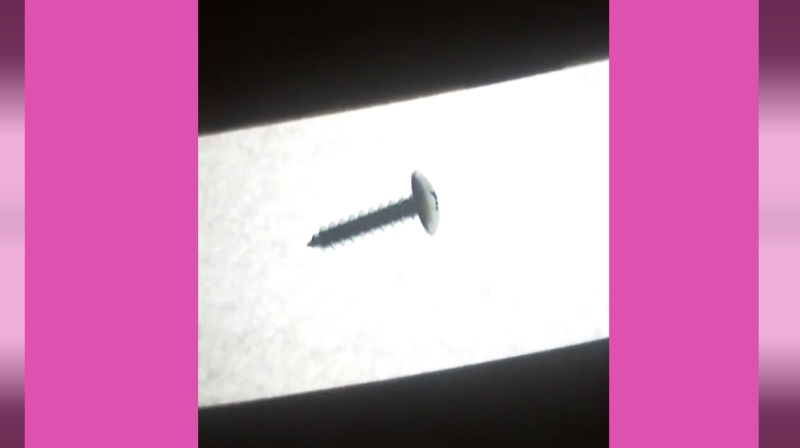S003: (303, 167, 444, 250)
